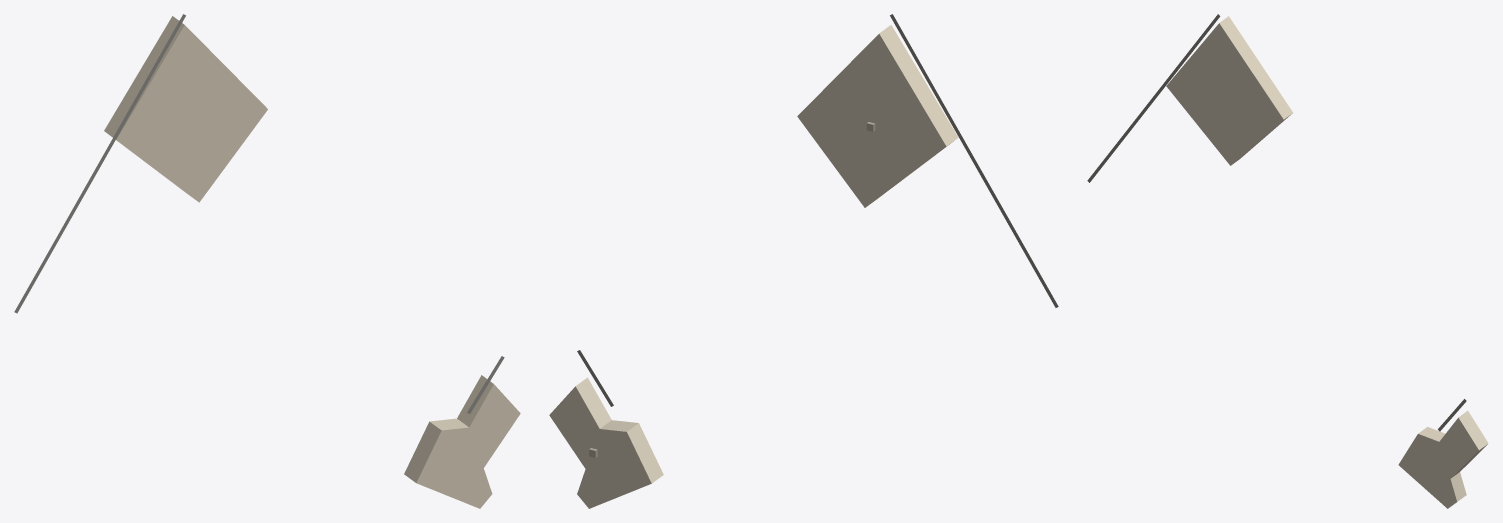
The model's file is historic-palestine-11_29_3526_3237.glb.
3 renders of one model, left to right at view 1: azimuth 30°, elevation 25°; view 2: azimuth 150°, elevation 25°; view 3: azimuth 330°, elevation 25°, orthographic. The views are drawn at different scales.
Visible parts, largest first — view 1: Building_.001, Building_, Road .001; view 2: Building_.001, Building_, Road .001; view 3: Building_.001, Building_, Road .001.
Boxes of the visible parts, box(x1,y1,x2,y2) form: Building_.001: box(104, 16, 267, 202); Building_: box(404, 375, 520, 508); Road .001: box(14, 14, 185, 313); Building_.001: box(797, 25, 958, 207); Building_: box(549, 377, 663, 508); Road .001: box(890, 14, 1058, 307); Building_.001: box(1166, 16, 1292, 165); Building_: box(1398, 410, 1488, 508); Road .001: box(1087, 14, 1220, 182).
Bounding box in the file's own units: 178 × 190 × 8.7.
